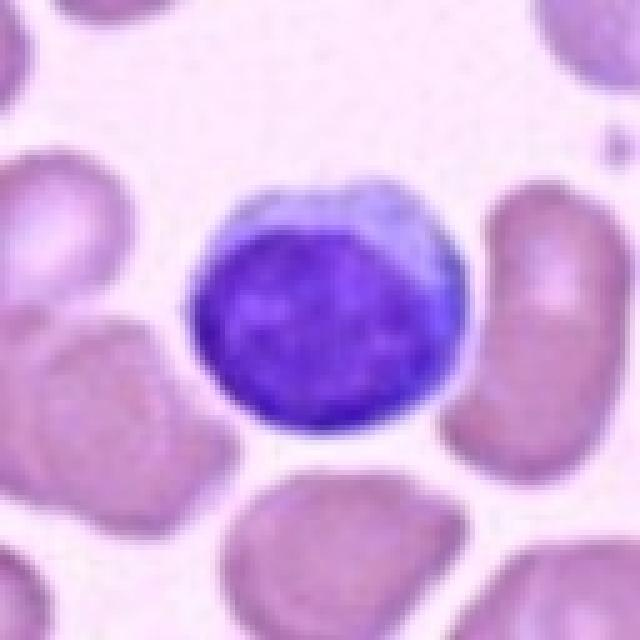lympho: (171, 167, 480, 436)
